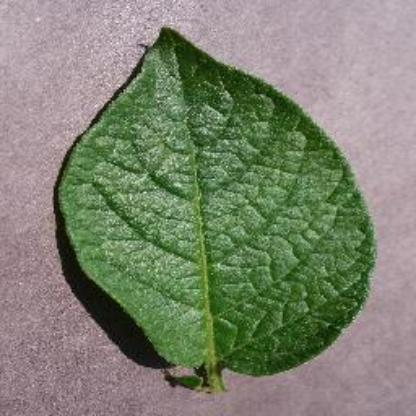Healthy-plant: (54, 20, 378, 390)
